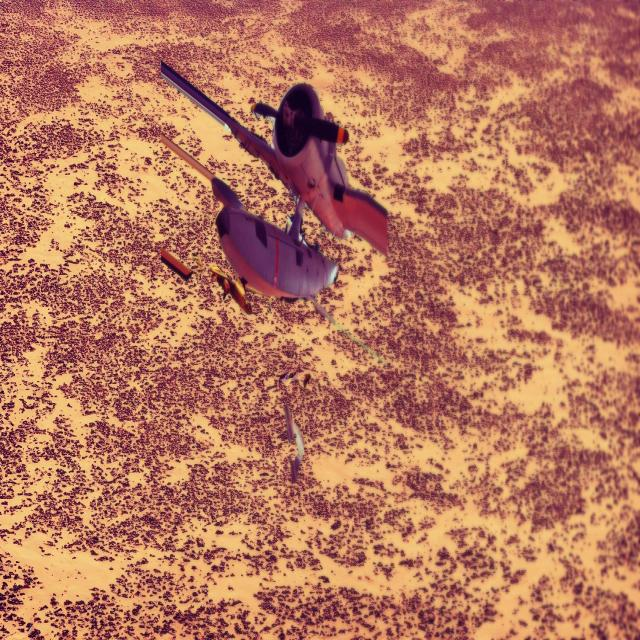airplane: (158, 59, 388, 351)
